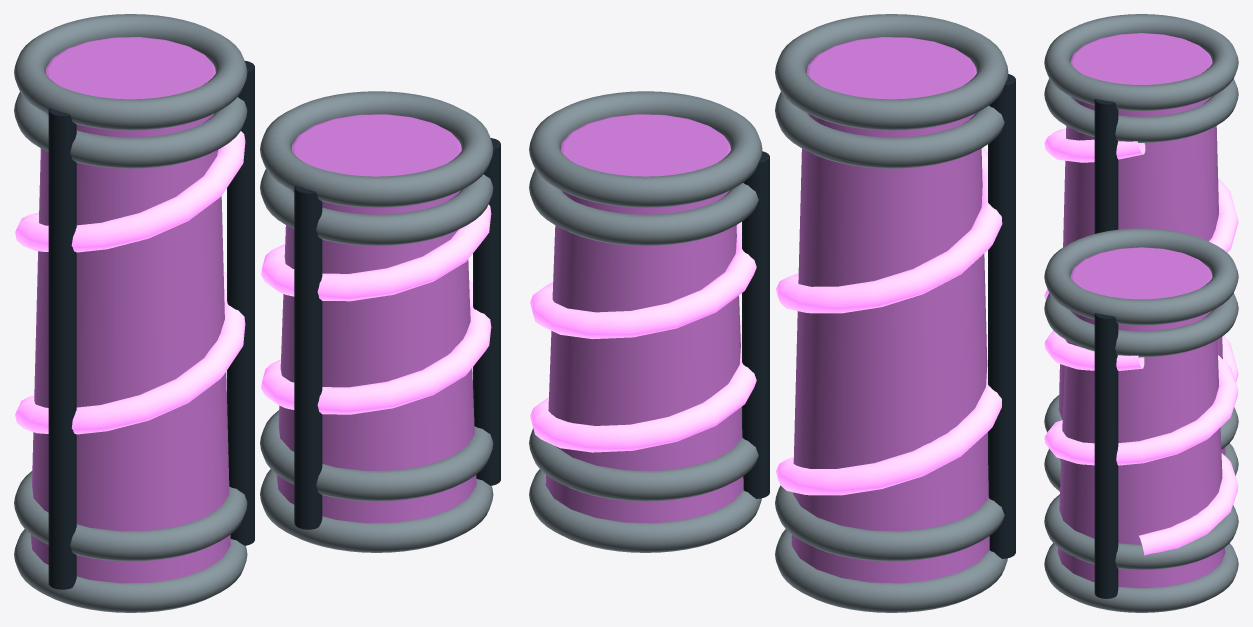
The model's file is chamber_landmark.glb.
3 views of the same model, side by side, from view 1: azimuth 30°, elevation 25°; view 2: azimuth 150°, elevation 25°; view 3: azimuth 270°, elevation 25° (orthographic). The views are drawn at different scales.
Parts seen in each view (by area): view 1: chamber_landmark; view 2: chamber_landmark; view 3: chamber_landmark.
Boxes of the visible parts, box(x1,y1,x2,y2) form: chamber_landmark: box(14, 14, 500, 612); chamber_landmark: box(529, 14, 1015, 612); chamber_landmark: box(1044, 14, 1238, 612).
Size of the model in its own units: 2.46 by 2.67 by 1.11.
